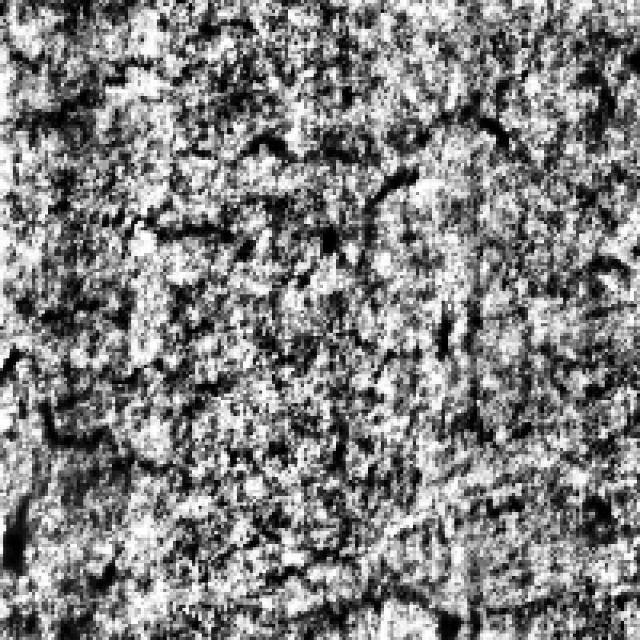Pitted_Surface: (19, 58, 630, 278), (0, 282, 227, 506)
